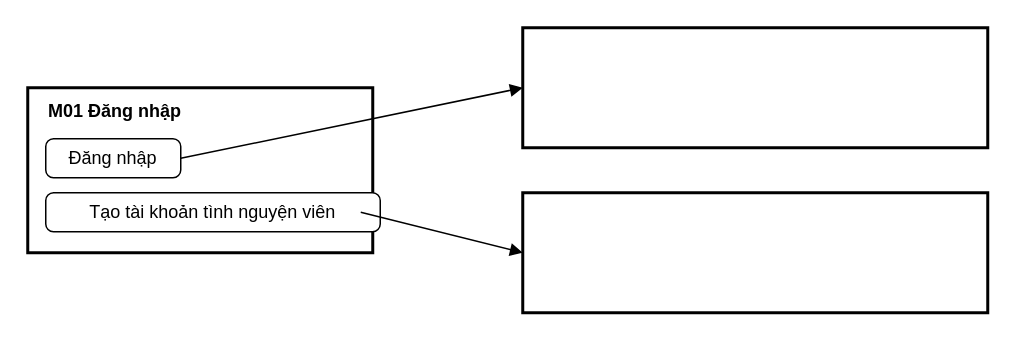
Image size: 1014x339. Some labels were removed from this diagram. Each missing label, with the centre of its shape:
"Trang tạo tài khoản của Keycloak Tên đăng nhập, mật khẩu, email, họ và tên" goes at point 754,252.
"Trang đăng nhập của Keycloak Tên đăng nhập, mật khẩu" goes at point 754,87.
